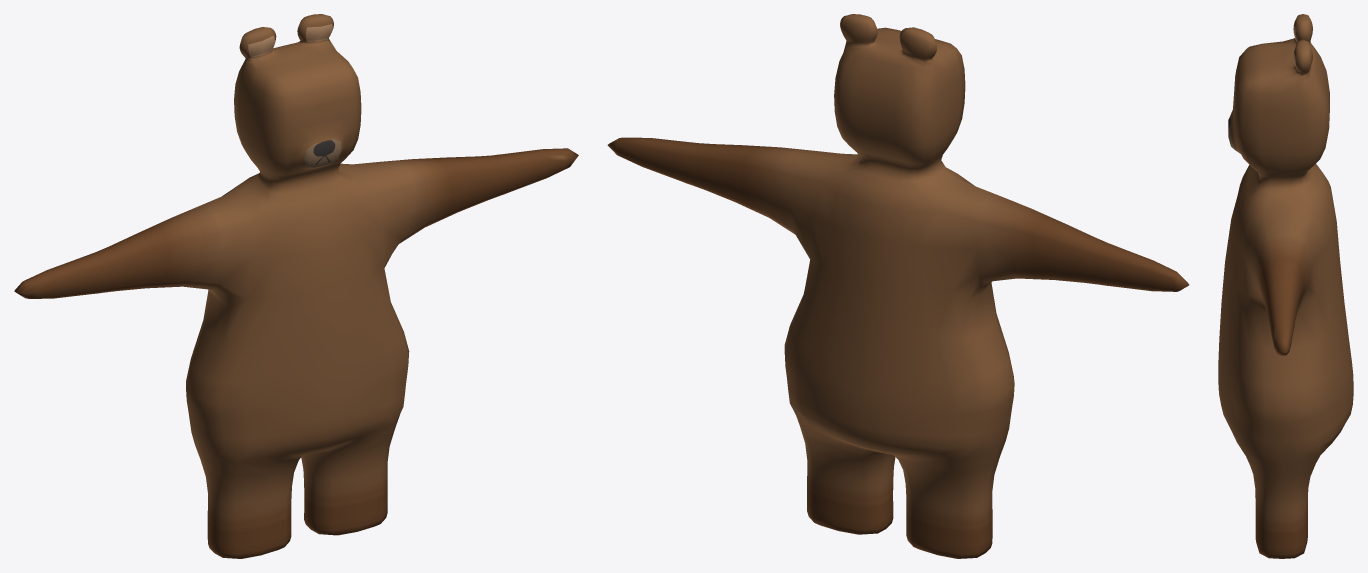
File: Niedzwiedz_tekstura.fbx
The picture shows the model from 3 angles, left to right: view 1: azimuth 30°, elevation 25°; view 2: azimuth 150°, elevation 25°; view 3: azimuth 270°, elevation 25°; orthographic projection. The views are drawn at different scales.
Parts seen in each view (by area): view 1: Cube; view 2: Cube; view 3: Cube.
Part boxes in pixels (<box>): Cube: <box>14,14,578,558</box>; Cube: <box>607,14,1189,558</box>; Cube: <box>1218,14,1353,558</box>.
Bounding box in the file's own units: 112 × 96.19 × 23.96.
Materials: 1 (1 with a texture image).
